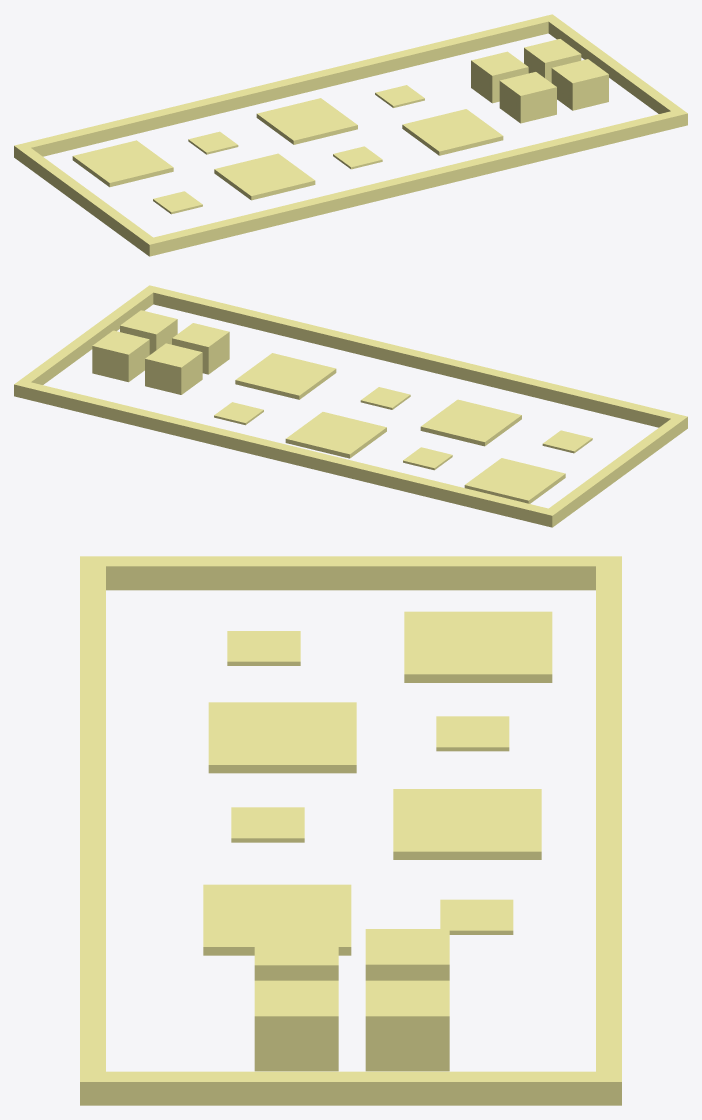
File: MemoryComponent.fbx
The picture shows the model from 3 angles, top to bottom: view 1: azimuth 30°, elevation 25°; view 2: azimuth 150°, elevation 25°; view 3: azimuth 270°, elevation 25°; orthographic projection. The views are drawn at different scales.
Visible parts, largest first — view 1: Cube.012; view 2: Cube.012; view 3: Cube.012.
Part boxes in pixels (<box>): Cube.012: <box>14,14,687,256</box>; Cube.012: <box>14,285,687,527</box>; Cube.012: <box>80,556,621,1105</box>.
Bounding box in the file's own units: 189 × 9.25 × 82.54.
Materials: 1 (1 with a texture image).
